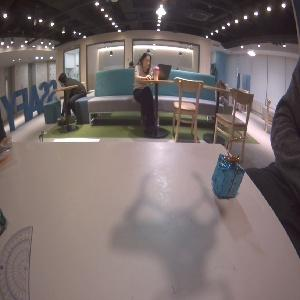box: (213, 158, 244, 200)
